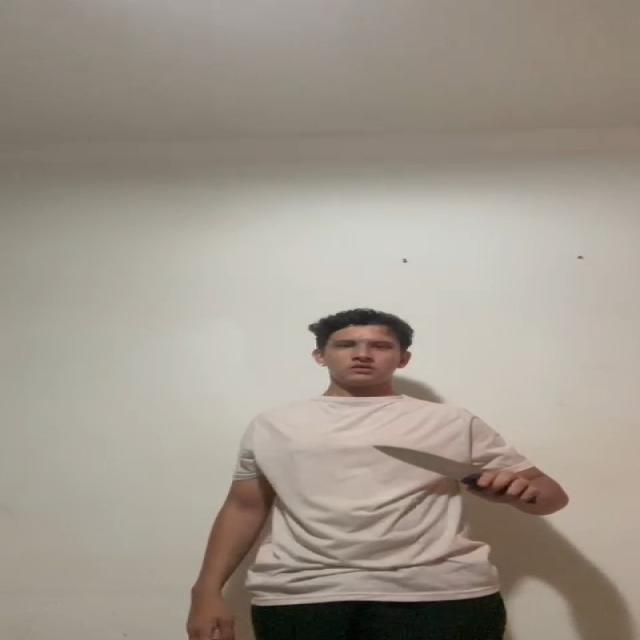knife: (371, 446, 480, 480)
